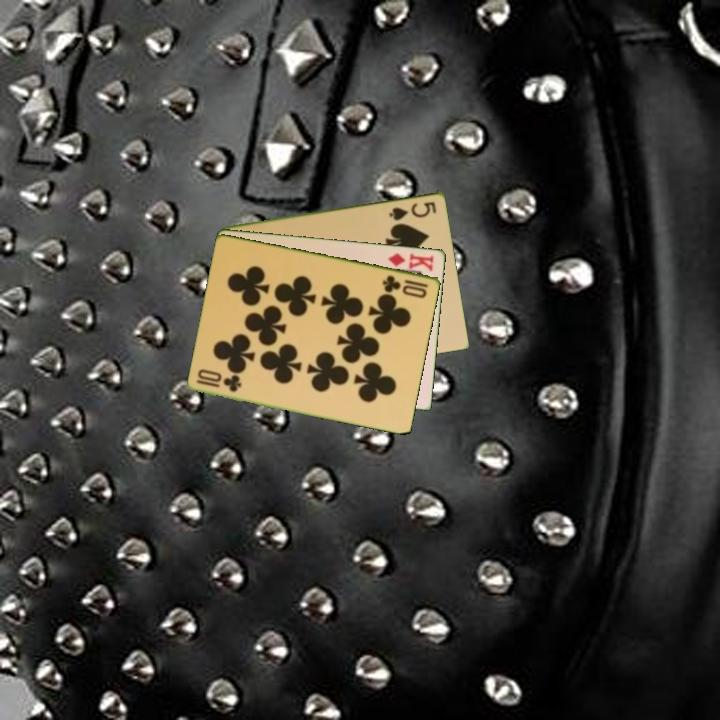10c: (379, 271, 431, 300), (193, 367, 245, 394)
5s: (386, 198, 439, 223)
Kd: (385, 249, 437, 274)
